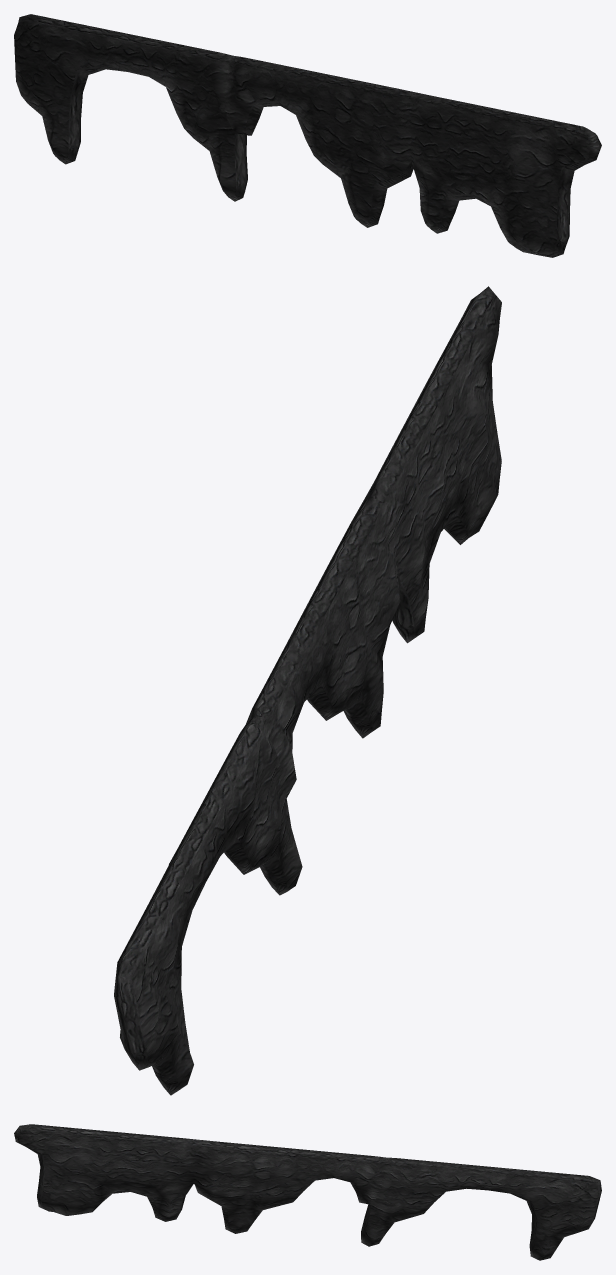
Rendered from BrickWallStraight8Shape.dae.
The picture shows the model from 3 angles, top to bottom: view 1: azimuth 30°, elevation 25°; view 2: azimuth 150°, elevation 25°; view 3: azimuth 270°, elevation 25°; orthographic projection. The views are drawn at different scales.
Parts seen in each view (by area): view 1: BrickWallStraight8; view 2: BrickWallStraight8; view 3: BrickWallStraight8.
Boxes of the visible parts, x1=… form: BrickWallStraight8: x1=14, y1=14, x2=601, y2=257; BrickWallStraight8: x1=114, y1=286, x2=501, y2=1095; BrickWallStraight8: x1=14, y1=1124, x2=601, y2=1260.
Size of the model in its own units: 15.2 by 22.64 by 64.56.
